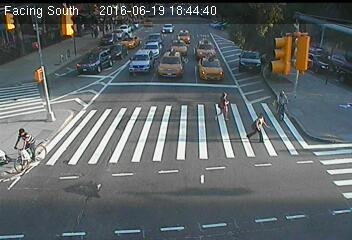neg: (7, 123, 41, 168), (270, 88, 295, 121)
pos: (247, 108, 272, 142), (213, 87, 238, 120)
